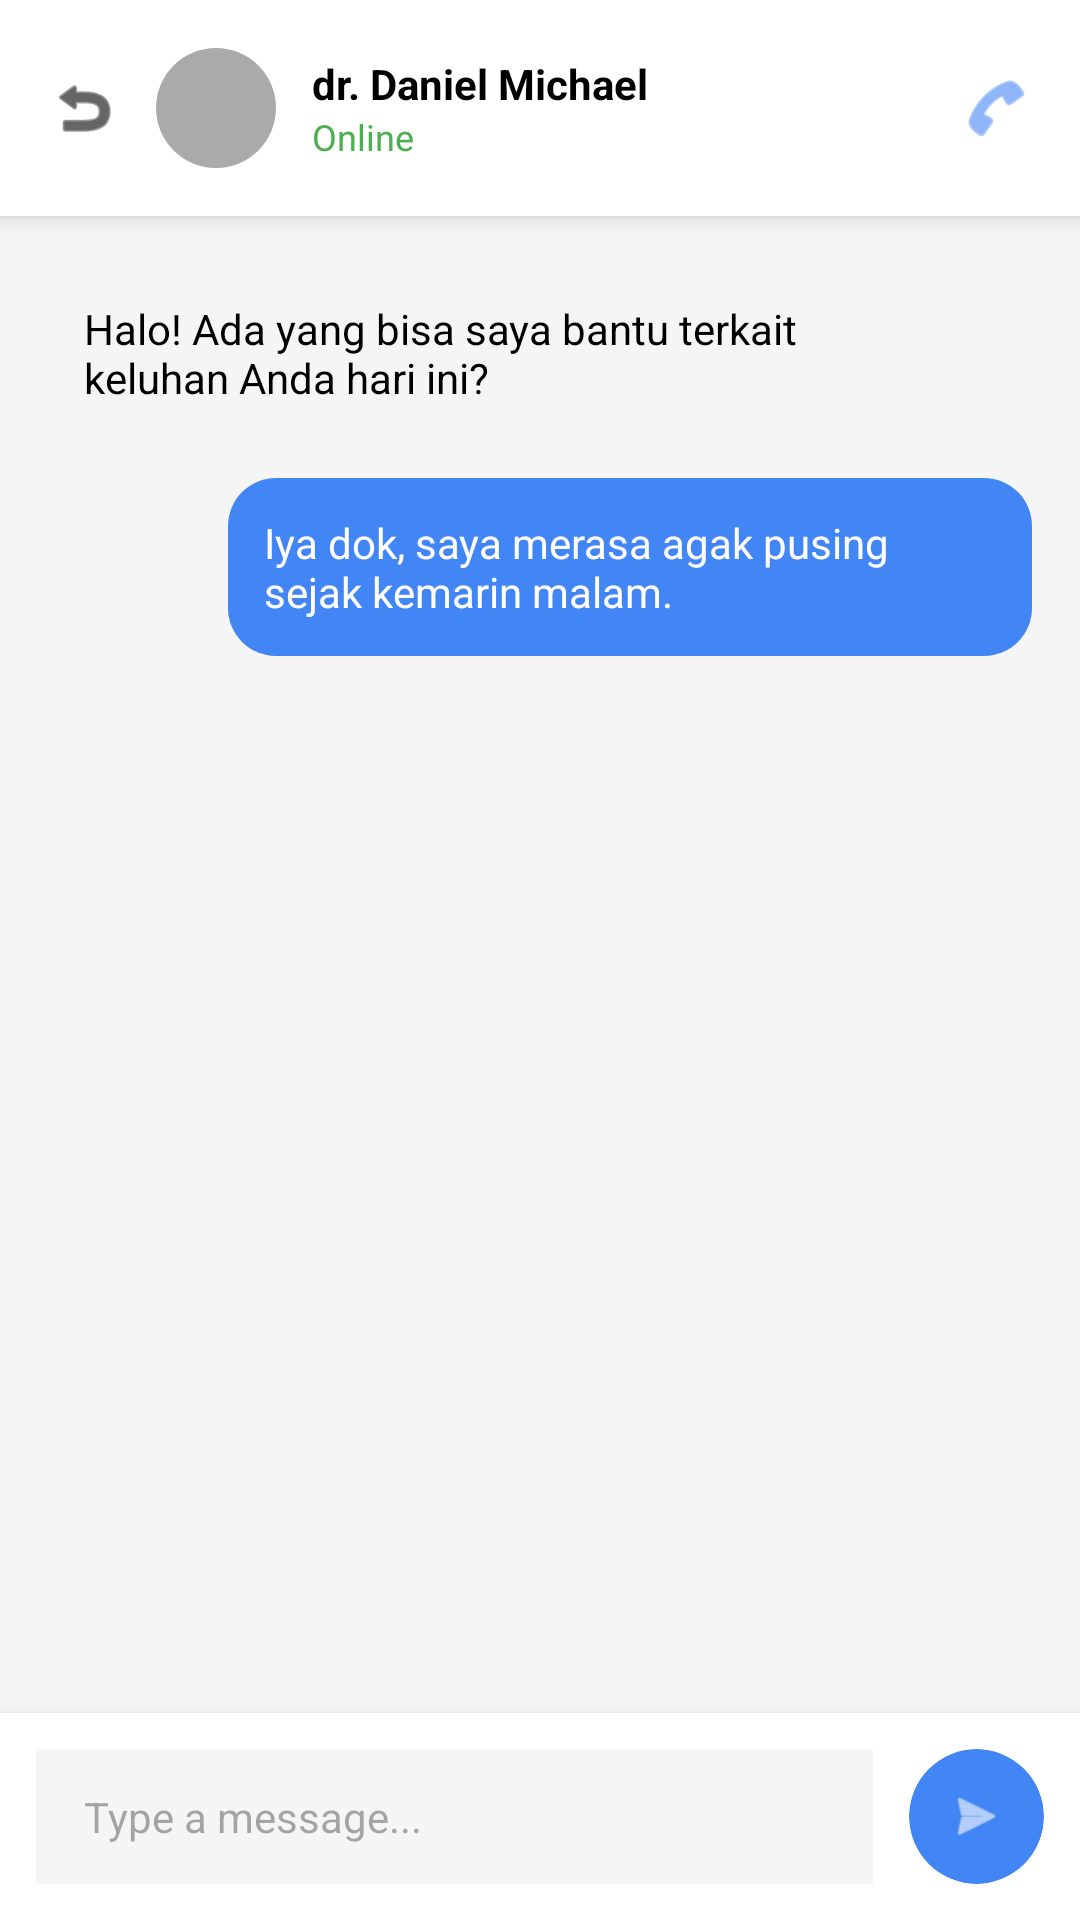

Where to tap for icons on this 1080 x 1920 app screen, as (x,y):
call: (996,108)
revert: (85,108)
send: (976,1816)
